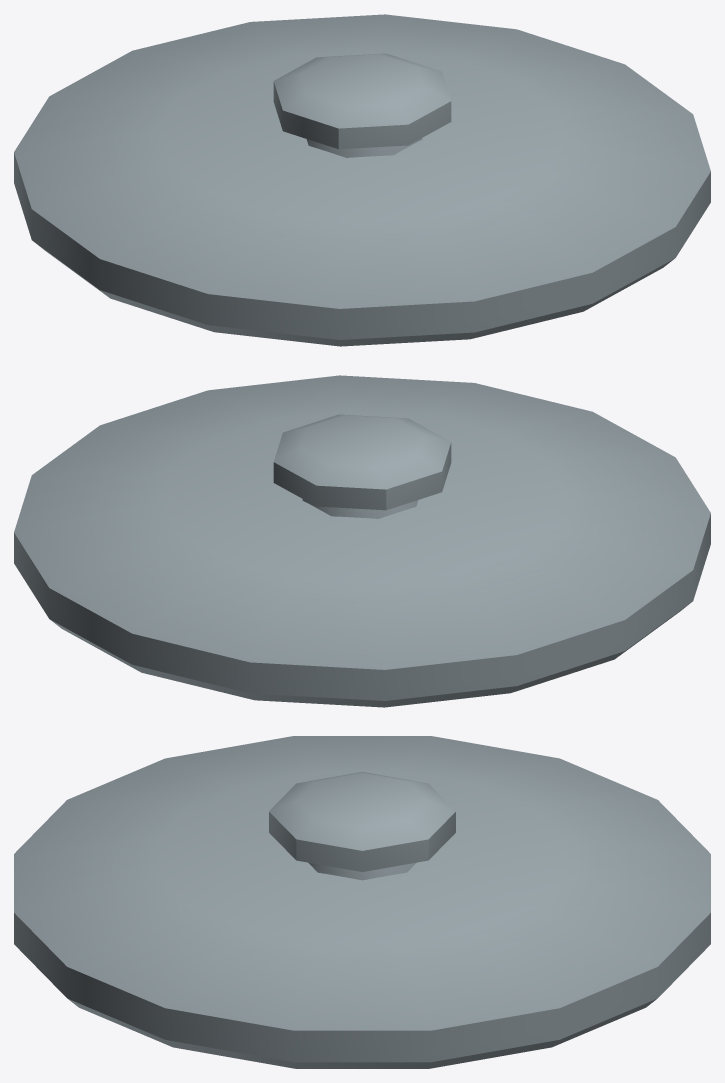
File: Lid A.glb
3 views of the same model, one above another, from view 1: azimuth 30°, elevation 25°; view 2: azimuth 150°, elevation 25°; view 3: azimuth 270°, elevation 25° (orthographic).
Parts seen in each view (by area): view 1: lid_A; view 2: lid_A; view 3: lid_A.
Part boxes in pixels (x1,y1,x2,y2): lid_A: (14,14,710,346); lid_A: (14,375,710,707); lid_A: (14,736,710,1068).
Bounding box in the file's own units: 1 × 0.2004 × 1.
Materials: 1 (1 with a texture image).
